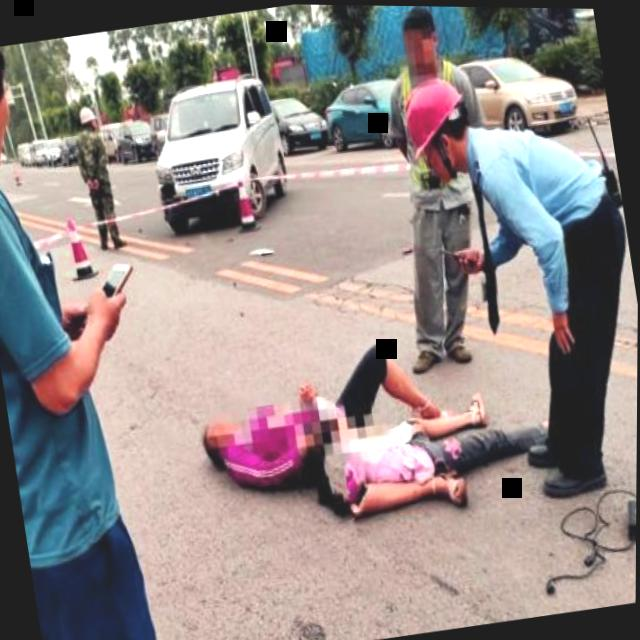Fall-Detected: (307, 367, 564, 540)
